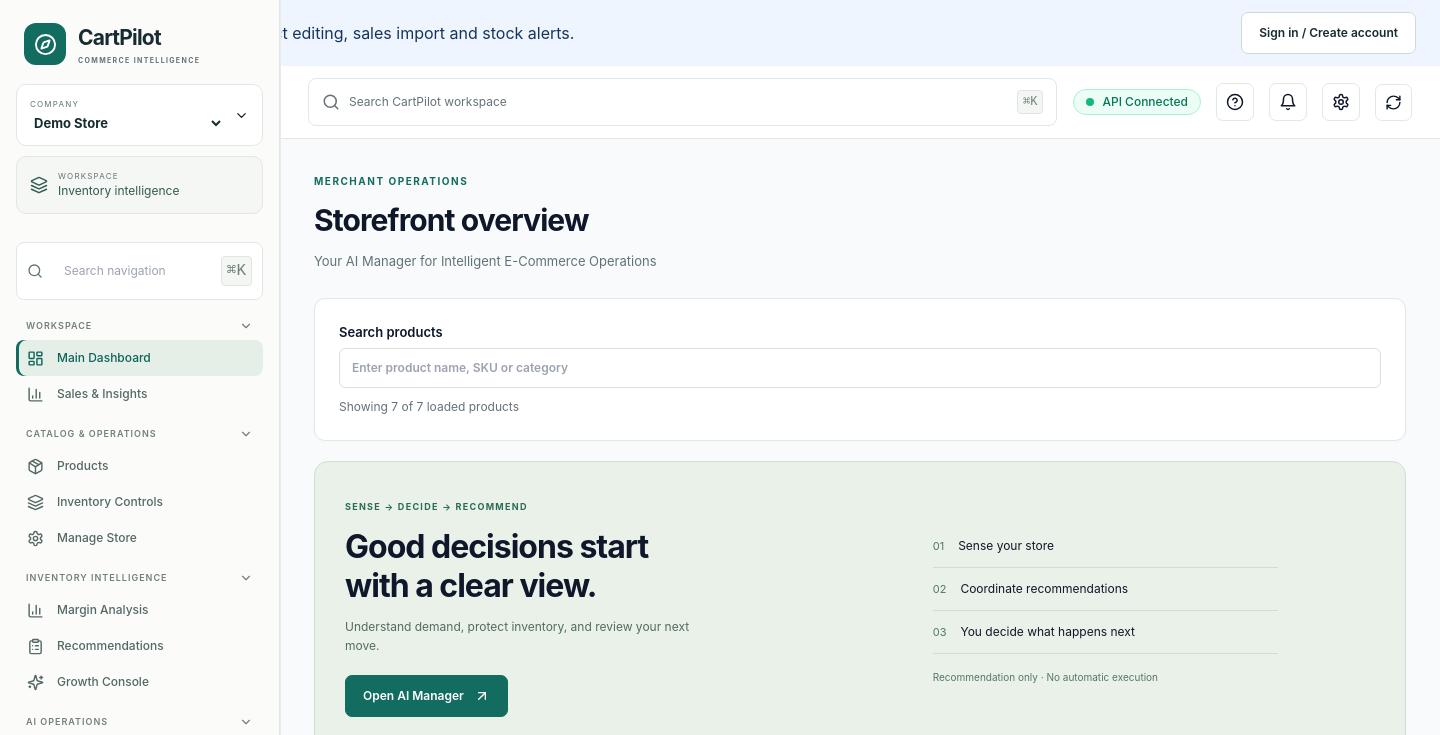
it: Dashboard Component › searches beyond the six-product preview from the top of the dashboard
Expected: the text "Seventh Test Mouse" is not shown
Type "  seventh test mouse  " into the search field labelled "Search products" at (860, 368), box [339,348,1381,388]
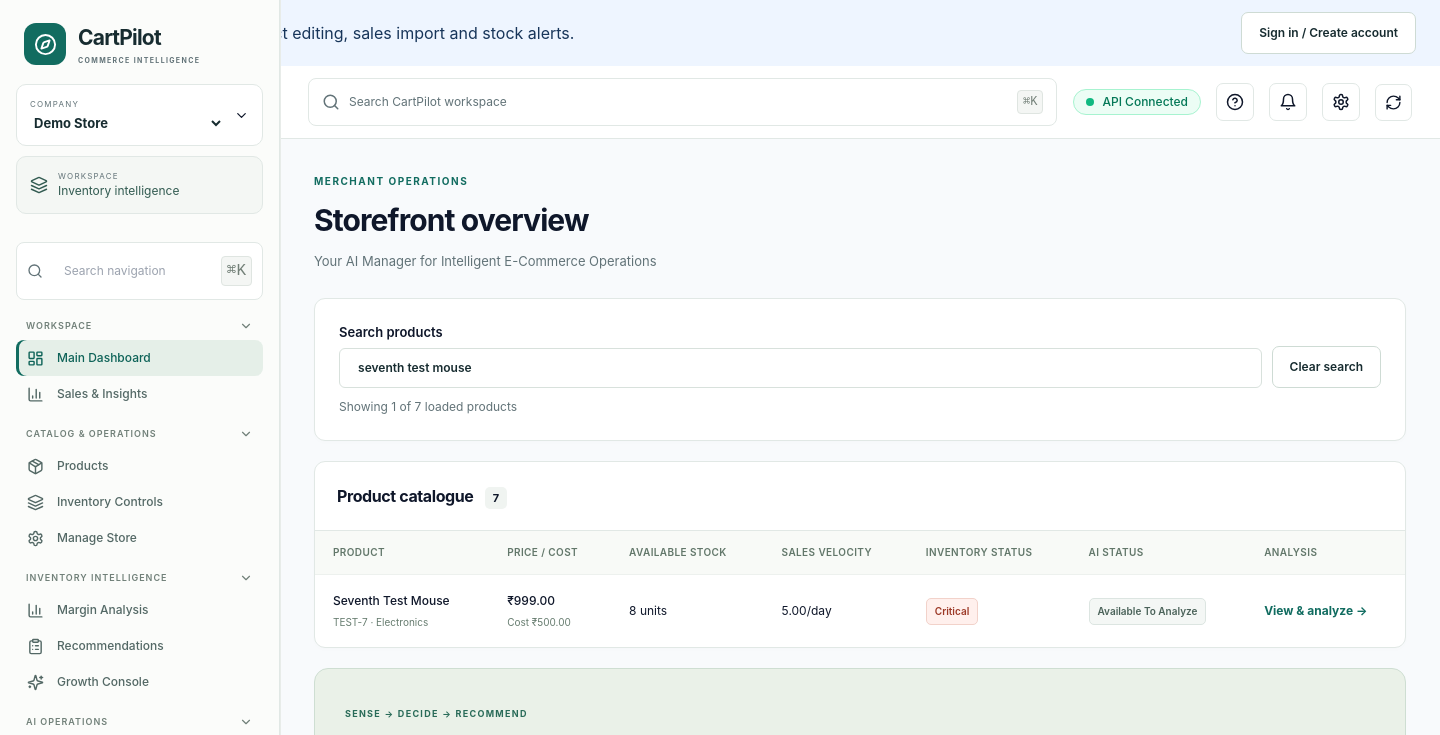
Expected: the text "Product 1" is not shown
Expected: the text "Seventh Test Mouse" is shown, [333,593,450,608]
Click the button "Clear search" at (1326, 367), box [1272,346,1381,388]
(page scrolled)
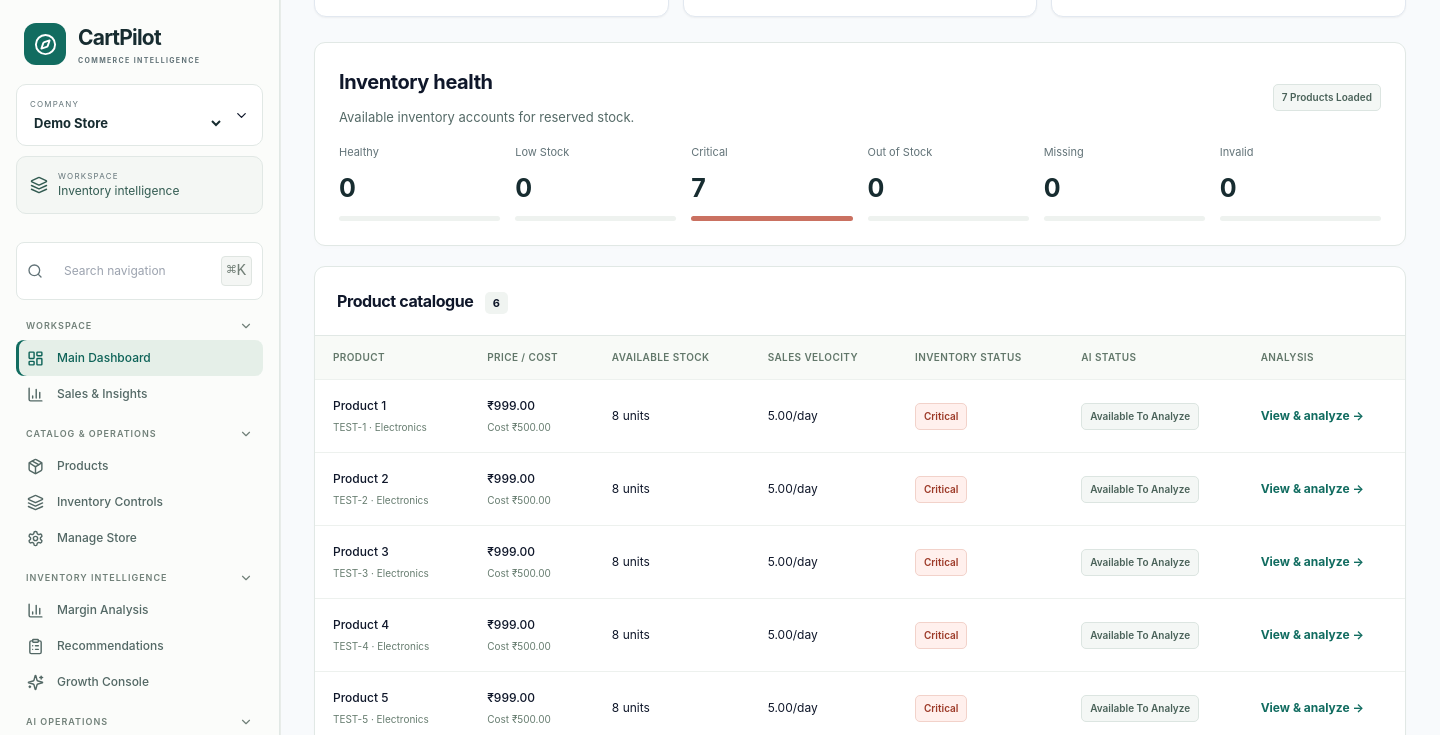
Expected: the text "Product 1" is shown, [333,398,386,413]
